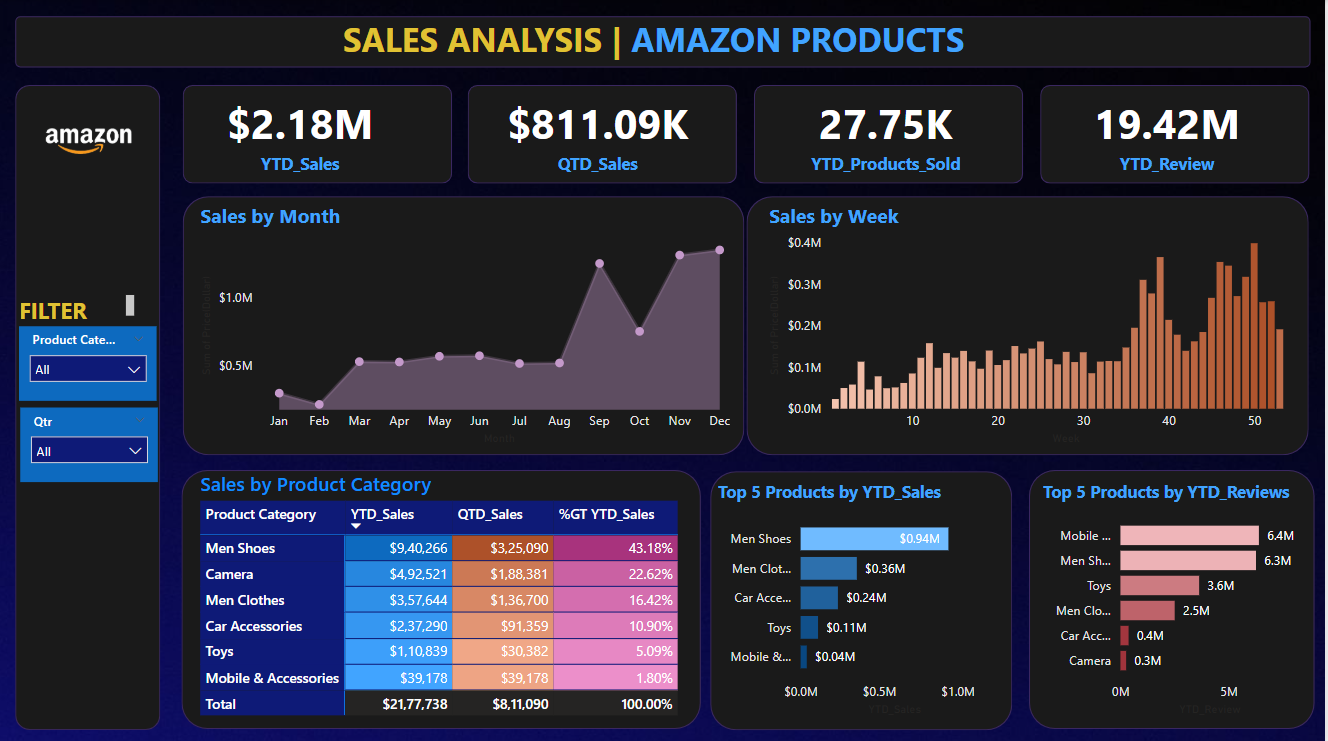

Layout of this report page (visuals, bound fields, positions):
{"tool":"powerbi","page":{"name":"Page 1","canvas":[1280,720],"ordinal":0},"visuals":[{"type":"shape","box":[15.1,15.1,1250.1,49.4],"z":0},{"type":"textbox","box":[326.9,10.9,624.9,56.7],"z":1000},{"type":"shape","box":[15.7,82,139.9,622.5],"z":2000},{"type":"shape","box":[176.8,81.7,260,95],"z":3000},{"type":"card","fields":{"Values":["Amazon_Data.YTD_Sales"]},"box":[165.9,81.7,251.2,95.1],"z":4000},{"type":"shape","box":[453,81.7,259.8,95.1],"z":5000},{"type":"shape","box":[728.9,81.7,259.8,95.1],"z":6000},{"type":"shape","box":[1004.9,81.7,259.8,95.1],"z":7000},{"type":"card","fields":{"Values":["Amazon_Data.QTD_Sales"]},"box":[452.4,81.7,251.2,95.1],"z":8000},{"type":"card","fields":{"Values":["Amazon_Data.YTD_Products_Sold"]},"box":[732.9,81.7,245.1,95.1],"z":9000},{"type":"card","fields":{"Values":["Amazon_Data.YTD_Review"]},"box":[1009.8,81.7,235.4,95.1],"z":10000},{"type":"shape","box":[176.8,189,542,250],"z":11000},{"type":"areaChart","title":"Sales by Month","fields":{"Category":["Date_Table.Month"],"Y":["Sum(Amazon_Data.Price(Dollar))"]},"box":[189,195.1,526.8,239],"z":12000},{"type":"shape","box":[722,189,542.7,250],"z":12001},{"type":"columnChart","title":"Sales by Week","fields":{"Category":["Date_Table.Week"],"Y":["Sum(Amazon_Data.Price(Dollar))"]},"box":[737.8,195.1,526.8,239],"z":12002},{"type":"shape","box":[175.6,453.7,501.2,250],"z":12003},{"type":"pivotTable","title":"Sales by Product Category","fields":{"Rows":["Amazon_Data.Product Category"],"Values":["Amazon_Data.YTD_Sales1","Amazon_Data.QTD_Sales","Amazon_Data.YTD_Sales"]},"box":[189,453.7,479.3,250],"z":12004},{"type":"shape","box":[686.6,454.9,291.5,250],"z":12005},{"type":"shape","box":[993.9,453.7,275.6,250],"z":12006},{"type":"clusteredBarChart","title":"Top 5 Products by YTD_Sales","fields":{"Y":["Amazon_Data.YTD_Sales"],"Category":["Amazon_Data.Product Category"]},"box":[689,463.4,289,232.9],"z":12007},{"type":"clusteredBarChart","title":"Top 5 Products by YTD_Reviews","fields":{"Category":["Amazon_Data.Product Category"],"Y":["Amazon_Data.YTD_Review"]},"box":[1002.4,463.4,267.1,232.9],"z":12008},{"type":"slicer","fields":{"Values":["Amazon_Data.Product Category"]},"box":[19.5,314.6,132.9,72],"z":12009},{"type":"slicer","fields":{"Values":["Date_Table.Qtr"]},"box":[20.7,393.9,132.9,72],"z":12010},{"type":"textbox","box":[14.6,280.5,120.7,34.1],"z":12011},{"type":"image","box":[14.6,43.9,143.9,185.4],"z":12012}]}

Visuals, with their boxes in screenshot pixels (x1, y1, x2, y2), scaled from the page's 1280x720 canvas onto the 1328x741 screenshot:
shape: 16/16/1313/66
textbox: 339/11/987/70
shape: 16/84/161/725
shape: 183/84/453/182
card - Amazon_Data.YTD_Sales: 172/84/433/182
shape: 470/84/740/182
shape: 756/84/1026/182
shape: 1043/84/1312/182
card - Amazon_Data.QTD_Sales: 469/84/730/182
card - Amazon_Data.YTD_Products_Sold: 760/84/1015/182
card - Amazon_Data.YTD_Review: 1048/84/1292/182
shape: 183/195/746/452
"Sales by Month" areaChart: 196/201/743/447
shape: 749/195/1312/452
"Sales by Week" columnChart: 765/201/1312/447
shape: 182/467/702/724
"Sales by Product Category" pivotTable: 196/467/693/724
shape: 712/468/1015/725
shape: 1031/467/1317/724
"Top 5 Products by YTD_Sales" clusteredBarChart: 715/477/1015/717
"Top 5 Products by YTD_Reviews" clusteredBarChart: 1040/477/1317/717
slicer - Amazon_Data.Product Category: 20/324/158/398
slicer - Date_Table.Qtr: 21/405/159/479
textbox: 15/289/140/324
image: 15/45/164/236
